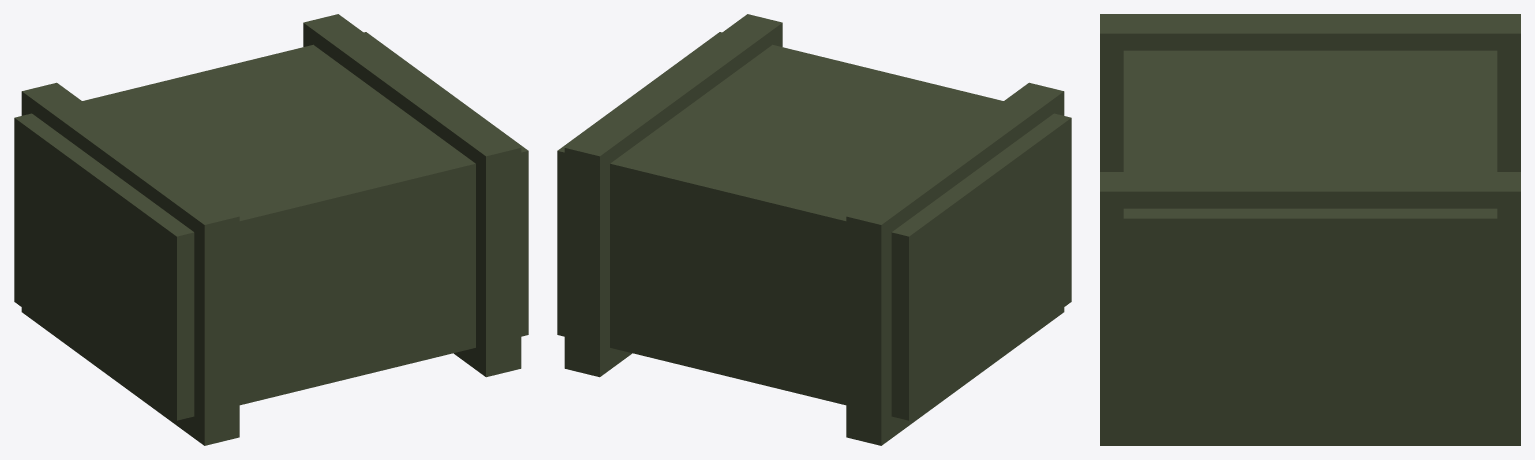
File: Supplies.FBX
3 views of the same model, side by side, from view 1: azimuth 30°, elevation 25°; view 2: azimuth 150°, elevation 25°; view 3: azimuth 270°, elevation 25° (orthographic). The views are drawn at different scales.
Parts seen in each view (by area): view 1: Box001; view 2: Box001; view 3: Box001.
Boxes of the visible parts, x1,y1,x2,y2 form: Box001: [14, 14, 528, 445]; Box001: [557, 14, 1071, 445]; Box001: [1100, 14, 1520, 445].
Size of the model in its own units: 50 by 30 by 45.
